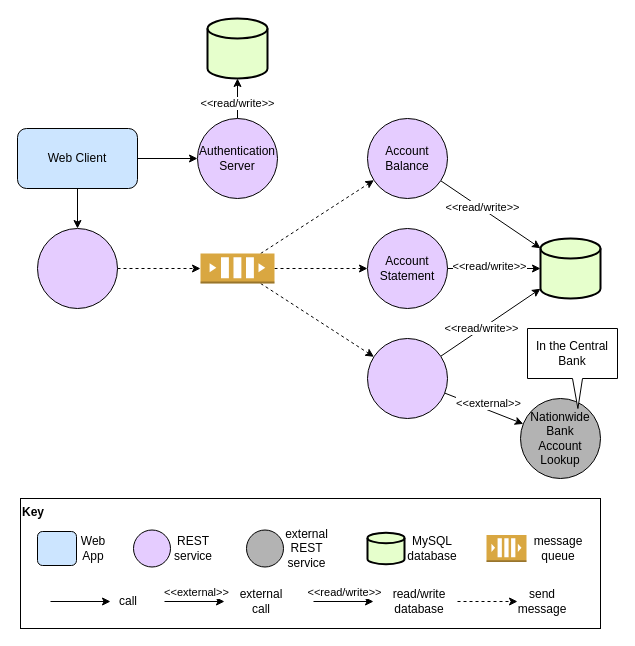
The diagram is 635 pixels wide and 646 high, and some of its shapes have lost their labels. The box of each missing label's shape, as (x1, y1, x2, y2) in pixels:
Account DB: (539, 237, 601, 299)
Account Transfer: (366, 338, 448, 418)
Bank Transaction Dispatcher: (36, 228, 118, 308)
LDAP DB: (206, 17, 268, 79)
